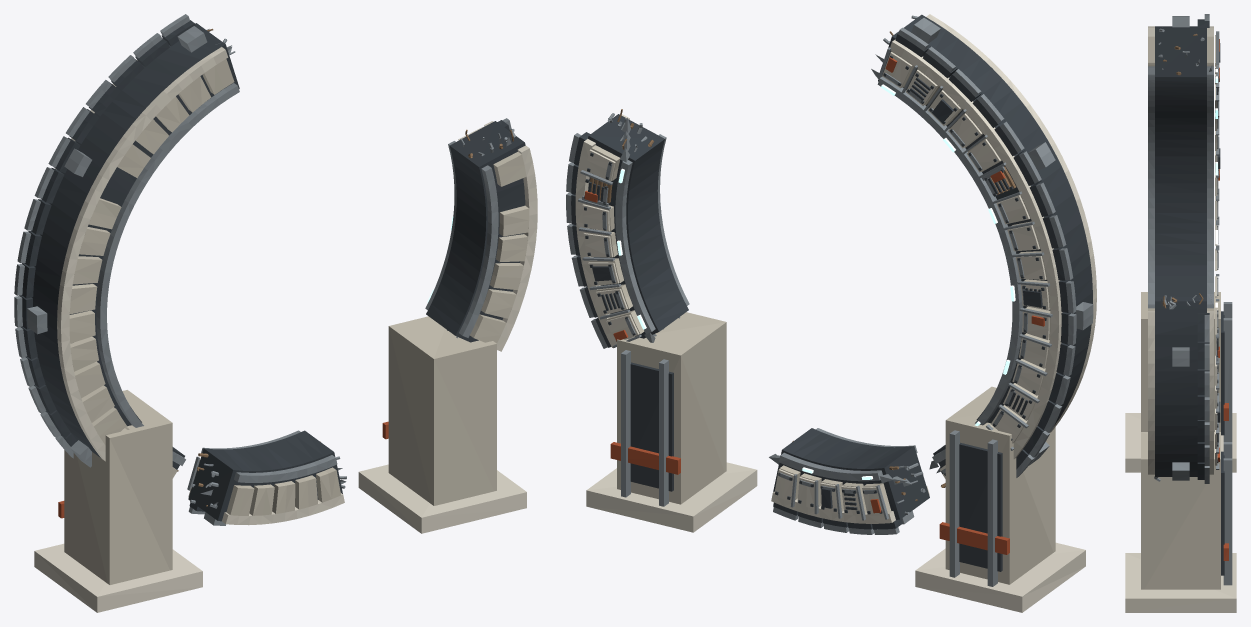
File: crown-broken.glb
3 renders of one model, left to right at view 1: azimuth 30°, elevation 25°; view 2: azimuth 150°, elevation 25°; view 3: azimuth 270°, elevation 25°, orthographic. The views are drawn at different scales.
Visible parts, largest first — view 1: crown-broken__ceramic, crown-broken__graphite, crown-broken__edge, crown-broken__metal; view 2: crown-broken__graphite, crown-broken__edge, crown-broken__metal, crown-broken__ceramic, crown-broken__oxide, crown-broken__light; view 3: crown-broken__graphite, crown-broken__ceramic, crown-broken__metal, crown-broken__edge, crown-broken__oxide.
Boxes of the visible parts, left/top/right/bottom form: crown-broken__ceramic: left=64, top=59, right=529, bottom=584; crown-broken__graphite: left=19, top=20, right=525, bottom=521; crown-broken__edge: left=34, top=47, right=537, bottom=612; crown-broken__metal: left=14, top=14, right=515, bottom=525; crown-broken__graphite: left=571, top=14, right=1092, bottom=571; crown-broken__edge: left=575, top=14, right=1096, bottom=612; crown-broken__metal: left=566, top=15, right=1093, bottom=586; crown-broken__ceramic: left=584, top=51, right=1055, bottom=584; crown-broken__oxide: left=584, top=57, right=1044, bottom=554; crown-broken__light: left=617, top=84, right=1015, bottom=479; crown-broken__graphite: left=1155, top=19, right=1224, bottom=575; crown-broken__ceramic: left=1141, top=36, right=1220, bottom=589; crown-broken__metal: left=1148, top=14, right=1232, bottom=585; crown-broken__edge: left=1125, top=26, right=1236, bottom=612; crown-broken__oxide: left=1217, top=39, right=1228, bottom=560.
Size of the model in its own units: 294 by 298 by 64.
